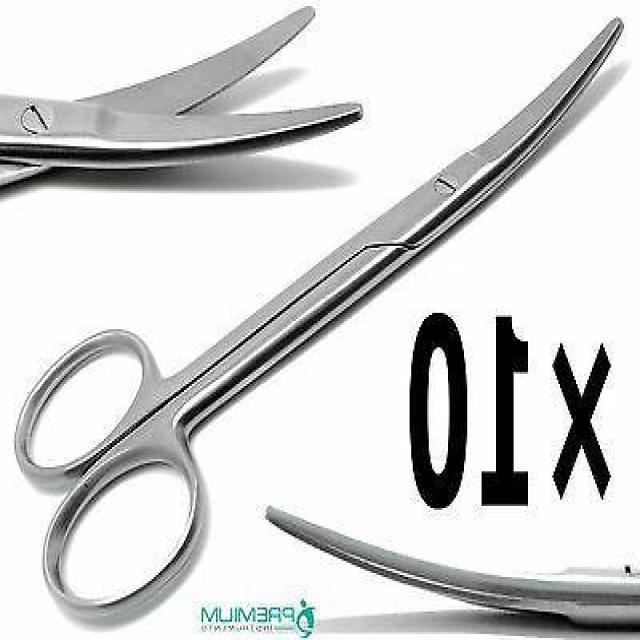Mayo_metz: (13, 12, 624, 632), (1, 0, 368, 199), (261, 500, 640, 632)
